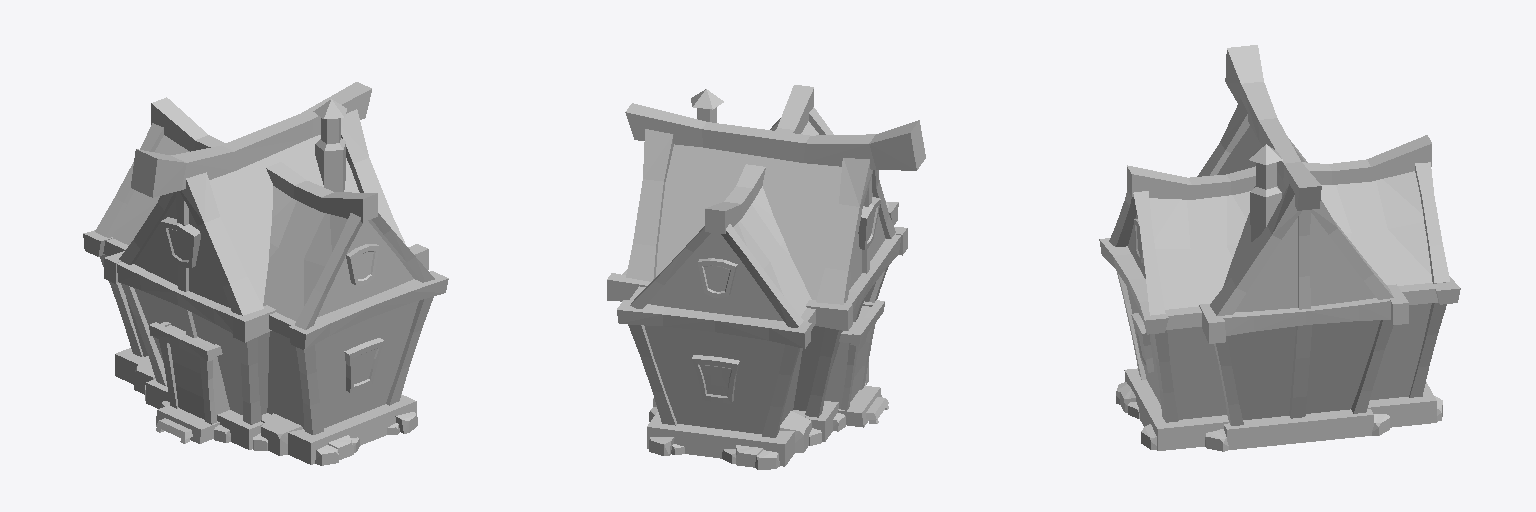
Rendered from house.obj.
3 views of the same model, side by side, from view 1: azimuth 30°, elevation 25°; view 2: azimuth 150°, elevation 25°; view 3: azimuth 270°, elevation 25° (orthographic).
Visible parts, largest first — view 1: house1; view 2: house1; view 3: house1.
Boxes of the visible parts, box(x1,y1,x2,y2) form: house1: box(83, 82, 448, 465); house1: box(607, 85, 925, 469); house1: box(1099, 45, 1460, 451).
Bounding box in the file's own units: 3.95 × 4.05 × 4.5.